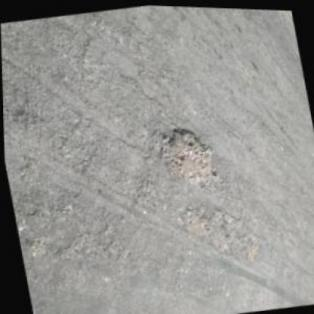Hueco: (175, 194, 258, 271), (153, 118, 221, 196)
